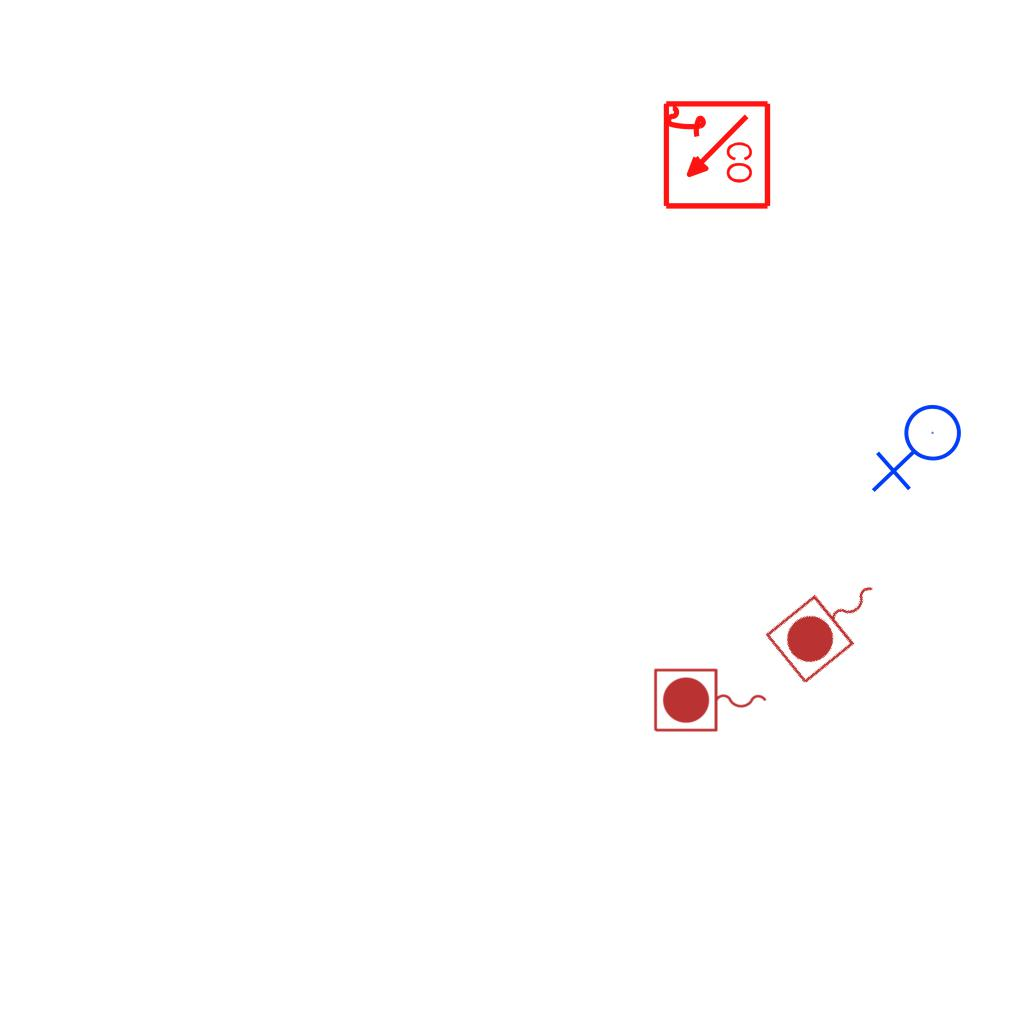Elektroanschluss_allgemein_230V_Geraeteanschlussdose_230V: (871, 403, 970, 497)
ROA_Rauchmelder_optisch_mit_Signalgeber_(Sockelsirene): (659, 99, 772, 212)
Zugtaster: (759, 557, 901, 691), (650, 665, 772, 737)
